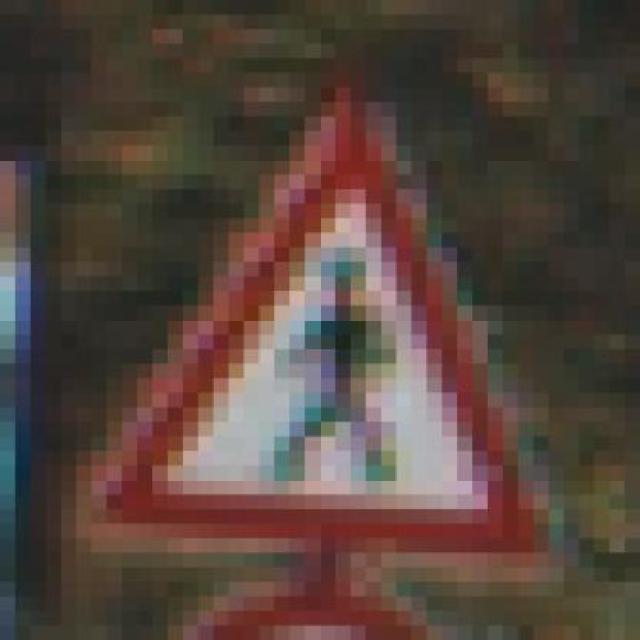Pedestrian Crossing: (46, 72, 548, 568)
